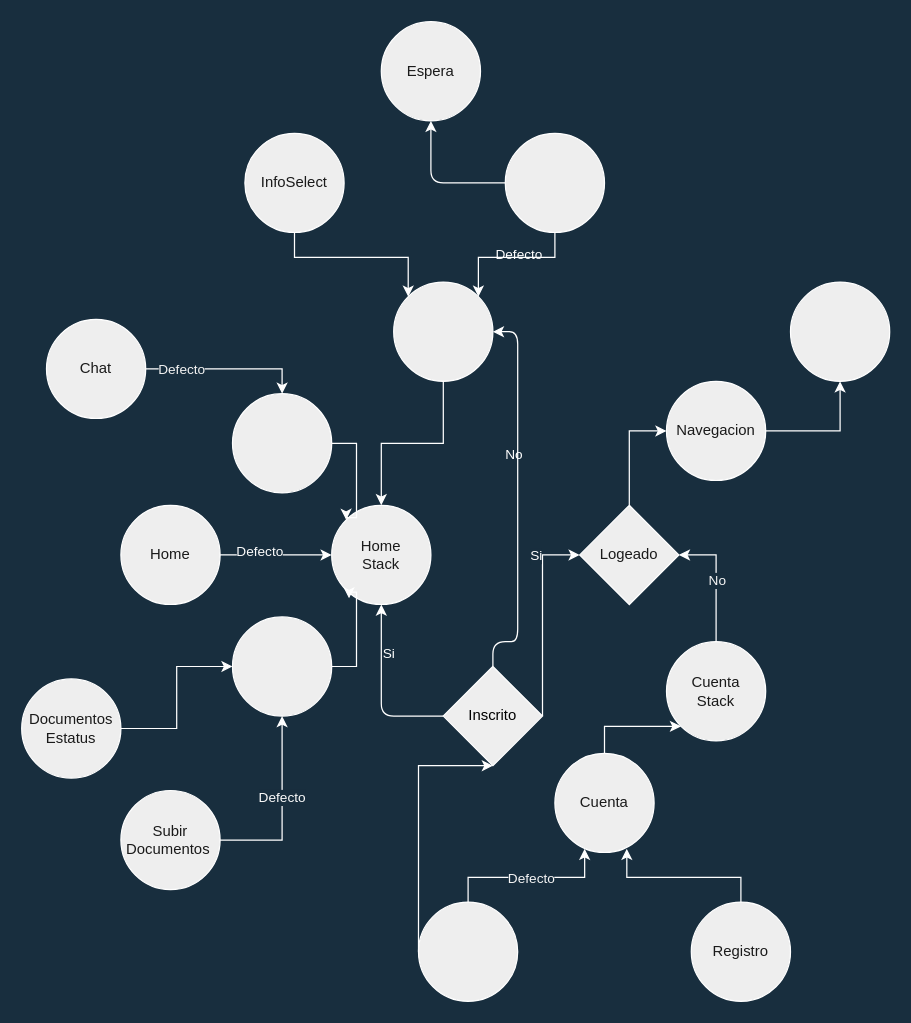
Image size: 911x1023. Some labels were removed from this diagram. The centre of each missing label's shape, as x and y in pixels:
App: pixel 839 331
Chat Stack: pixel 281 442
Inscripcion Stack: pixel 442 331
Login: pixel 467 951
Seleccion: pixel 554 182
SubirDocs Stack: pixel 281 666
